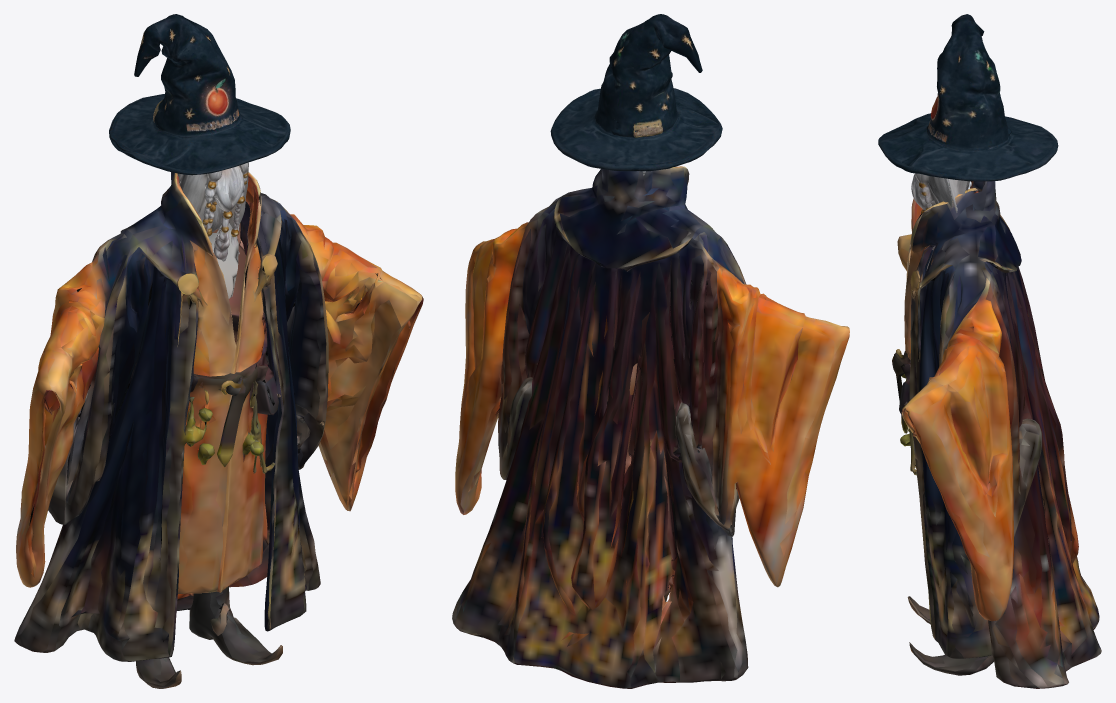
The model's file is wizard_costume.glb.
3 renders of one model, left to right at view 1: azimuth 30°, elevation 25°; view 2: azimuth 150°, elevation 25°; view 3: azimuth 270°, elevation 25°, orthographic. The views are drawn at different scales.
Visible parts, largest first — view 1: Costume, Hat, Beard; view 2: Costume, Hat; view 3: Costume, Hat, Beard.
Part boxes in pixels (bbox=[...]): Costume: bbox=[14, 172, 423, 688]; Hat: bbox=[109, 14, 290, 175]; Beard: bbox=[177, 162, 248, 261]; Costume: bbox=[452, 166, 849, 688]; Hat: bbox=[550, 14, 722, 171]; Costume: bbox=[892, 181, 1101, 688]; Hat: bbox=[878, 14, 1058, 181]; Beard: bbox=[911, 173, 971, 250].
Bounding box in the file's own units: 1.09 × 1.8 × 0.5884.
Materials: 3 (3 with a texture image).
